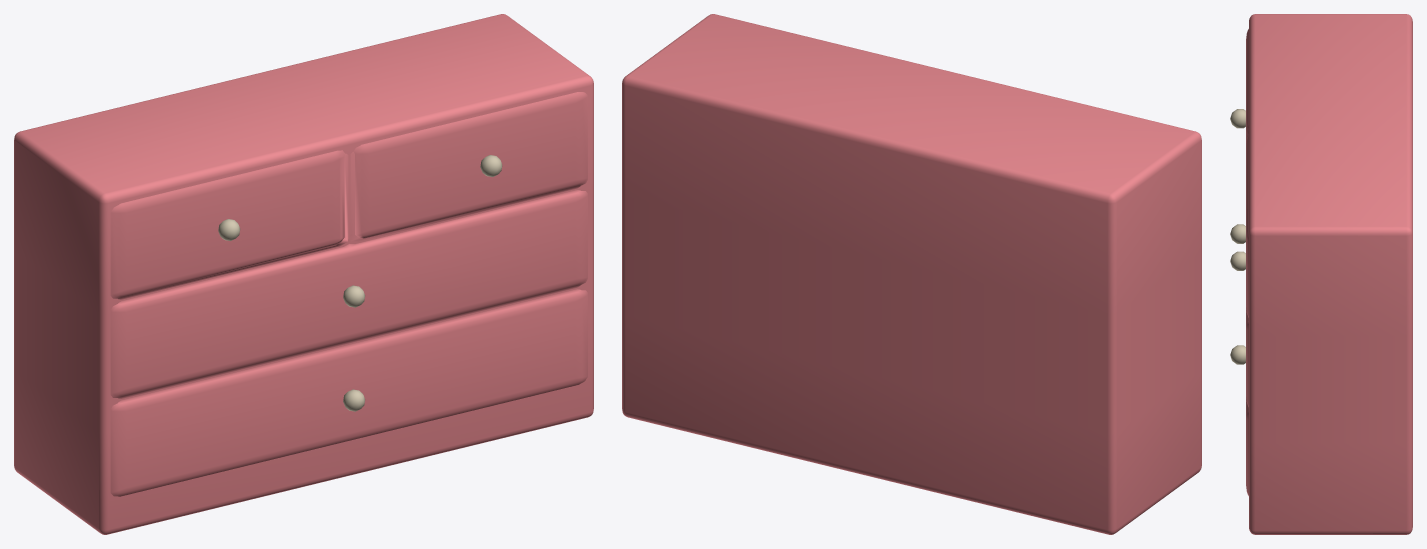
The model's file is pink chest of drawers.fbx.
3 renders of one model, left to right at view 1: azimuth 30°, elevation 25°; view 2: azimuth 150°, elevation 25°; view 3: azimuth 270°, elevation 25°, orthographic. The views are drawn at different scales.
Parts seen in each view (by area): view 1: Cube; view 2: Cube; view 3: Cube.
Part boxes in pixels (x1,y1,x2,y2): Cube: (14,14,593,534); Cube: (622,14,1201,534); Cube: (1230,14,1412,534).
Size of the model in its own units: 212 by 140 by 75.12.
